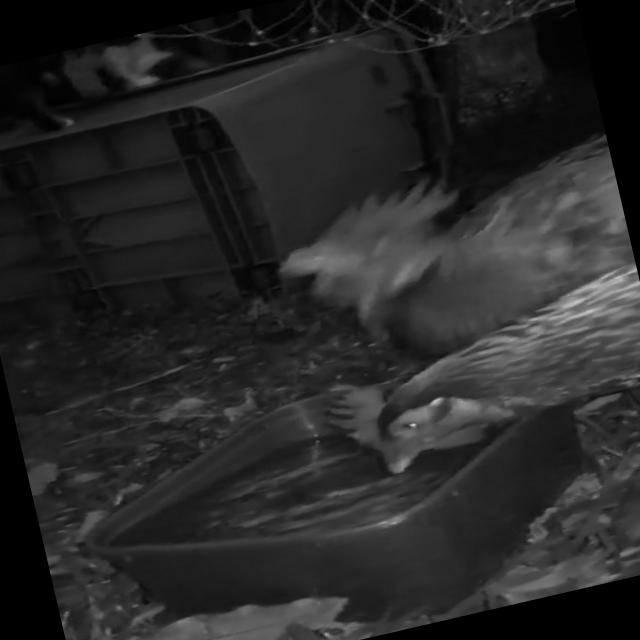drinking: (244, 279, 640, 545)
